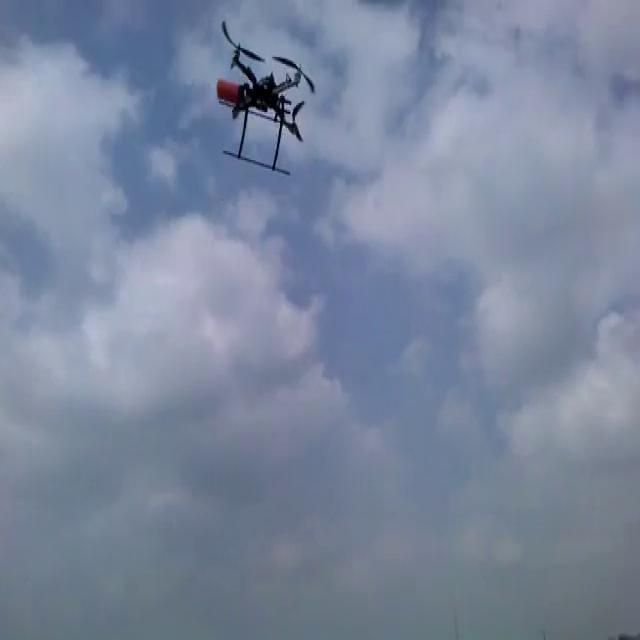drone: (208, 14, 319, 178)
